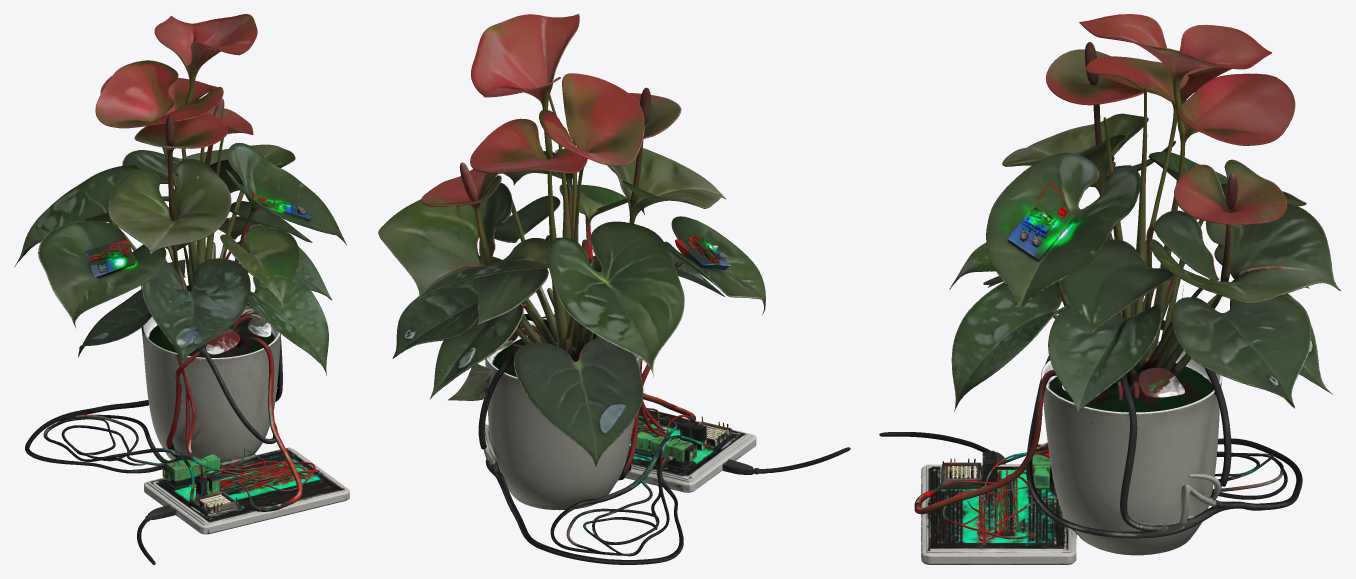
File: 3dPianta-compressed.glb
The picture shows the model from 3 angles, left to right: view 1: azimuth 30°, elevation 25°; view 2: azimuth 150°, elevation 25°; view 3: azimuth 270°, elevation 25°; orthographic projection. The views are drawn at different scales.
Visible parts, largest first — view 1: tmp_4_66nwxobj; view 2: tmp_4_66nwxobj; view 3: tmp_4_66nwxobj.
Boxes of the visible parts, box(x1,y1,x2,y2) form: tmp_4_66nwxobj: box(14, 14, 349, 564); tmp_4_66nwxobj: box(378, 14, 850, 564); tmp_4_66nwxobj: box(879, 14, 1340, 564).
Bounding box in the file's own units: 0.716 × 0.9999 × 0.8087.
1 material, 1 textured.
